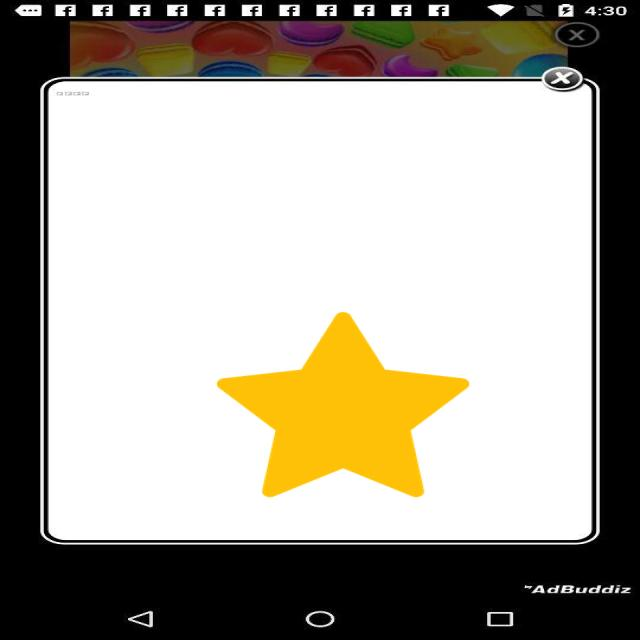forced continuity: (217, 312, 469, 497)
